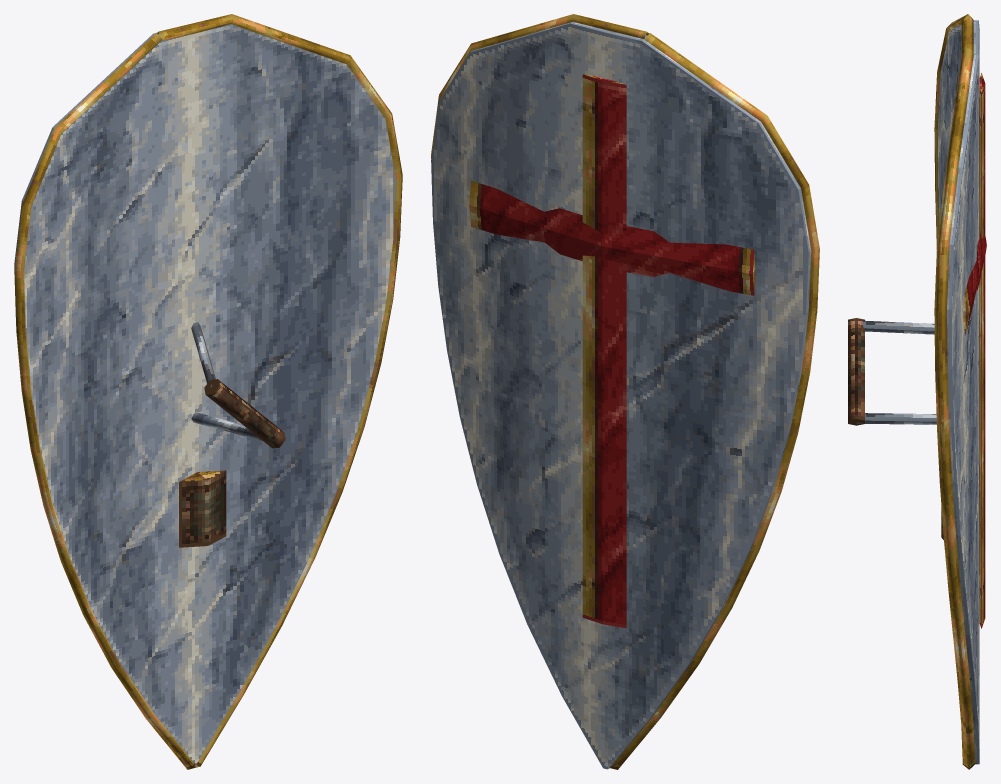
File: templar_kite.glb
3 renders of one model, left to right at view 1: azimuth 30°, elevation 25°; view 2: azimuth 150°, elevation 25°; view 3: azimuth 270°, elevation 25°, orthographic.
Visible parts, largest first — view 1: templar_kite; view 2: templar_kite; view 3: templar_kite.
Part boxes in pixels (x1=…): templar_kite: x1=14, y1=14, x2=402, y2=769; templar_kite: x1=431, y1=14, x2=819, y2=769; templar_kite: x1=848, y1=14, x2=986, y2=769.
Size of the model in its own units: 0.4939 by 0.9053 by 0.1552.
Materials: 1 (1 with a texture image).
